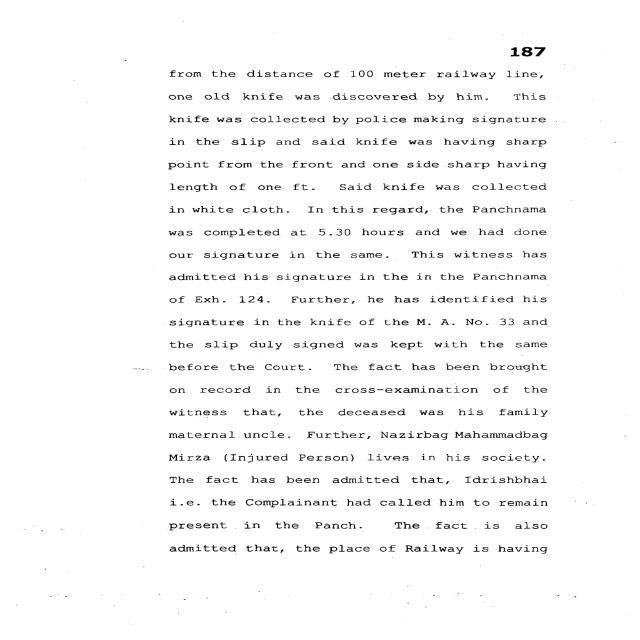page-number: (430, 1, 633, 62)
